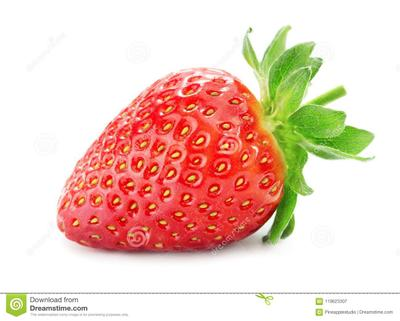strawberry: (0, 0, 400, 321)
